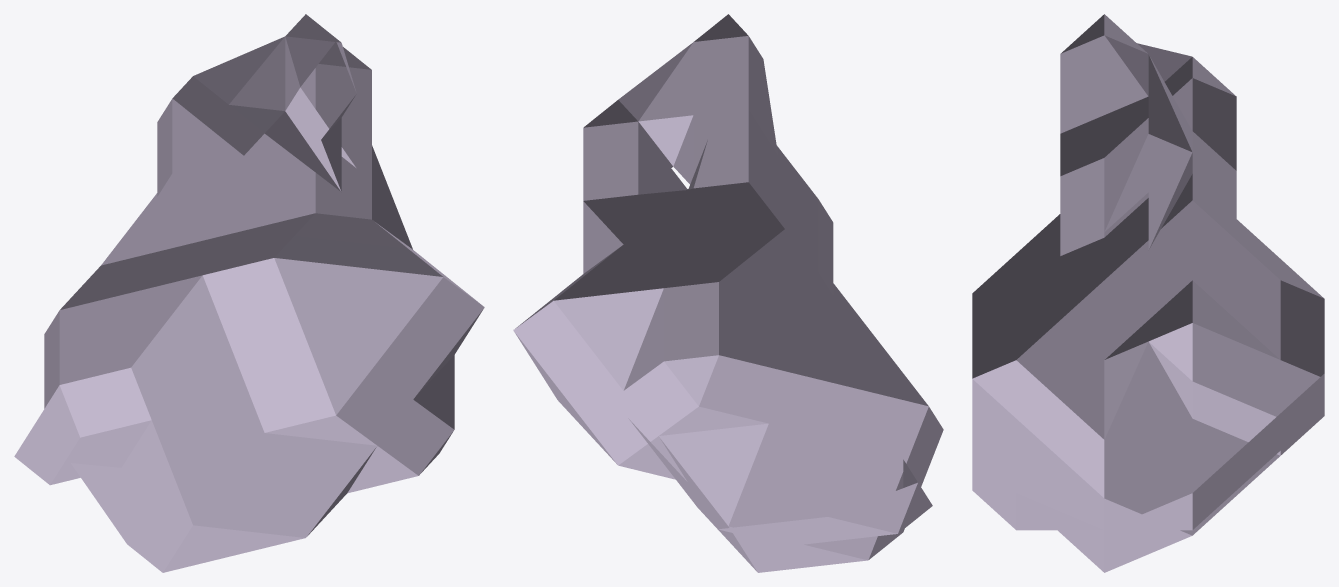
Rendered from region_0019_Chab__habenular_commissure_.glb.
The picture shows the model from 3 angles, left to right: view 1: azimuth 30°, elevation 25°; view 2: azimuth 150°, elevation 25°; view 3: azimuth 270°, elevation 25°; orthographic projection. The views are drawn at different scales.
Parts seen in each view (by area): view 1: world; view 2: world; view 3: world.
Boxes of the visible parts, x1,y1,x2,y2 form: world: [14, 14, 484, 572]; world: [513, 14, 943, 572]; world: [972, 14, 1324, 572].
Size of the model in its own units: 0.048 by 0.056 by 0.032.
